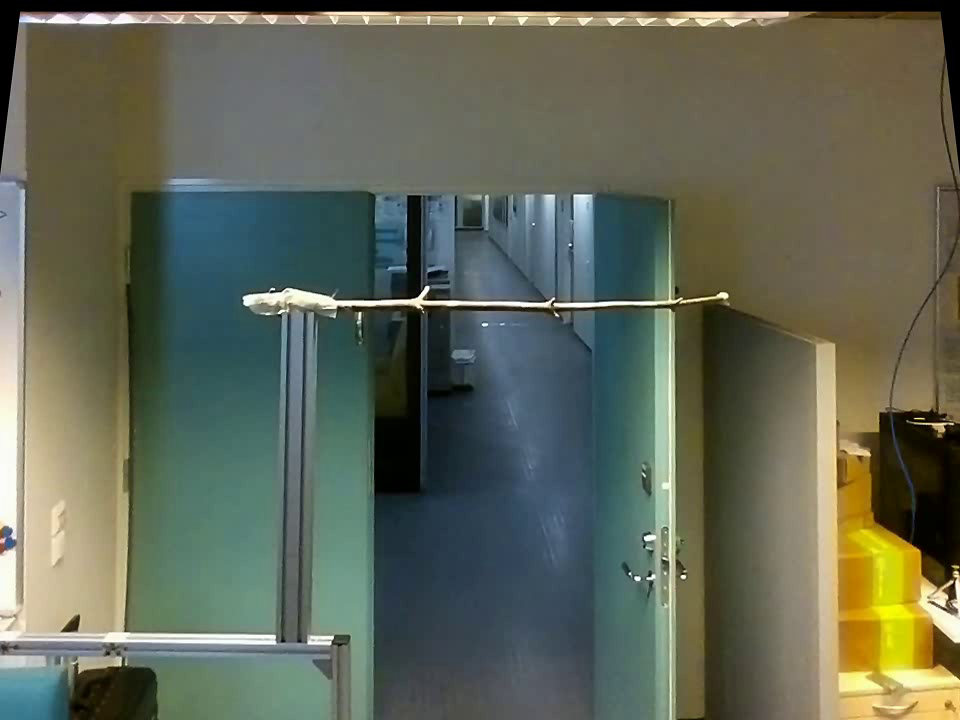aluminum_frame: (270, 317, 315, 645), (0, 625, 334, 660), (328, 635, 357, 718)
branch: (343, 281, 710, 325)
